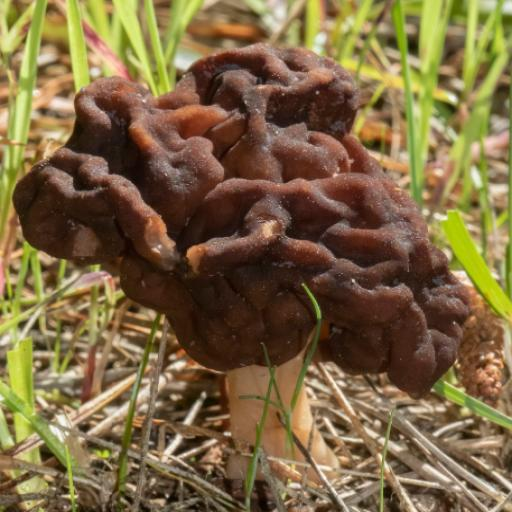mushroom: (10, 41, 466, 396)
